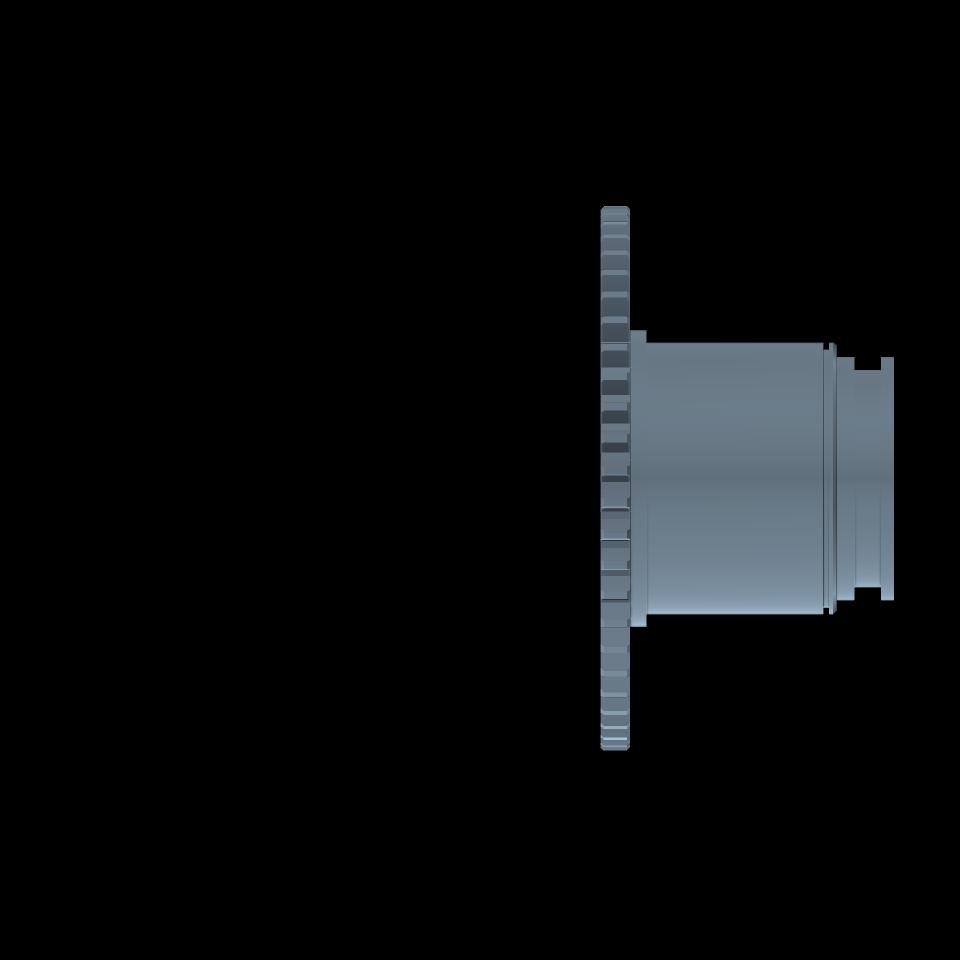Straight: (604, 206, 626, 752)
